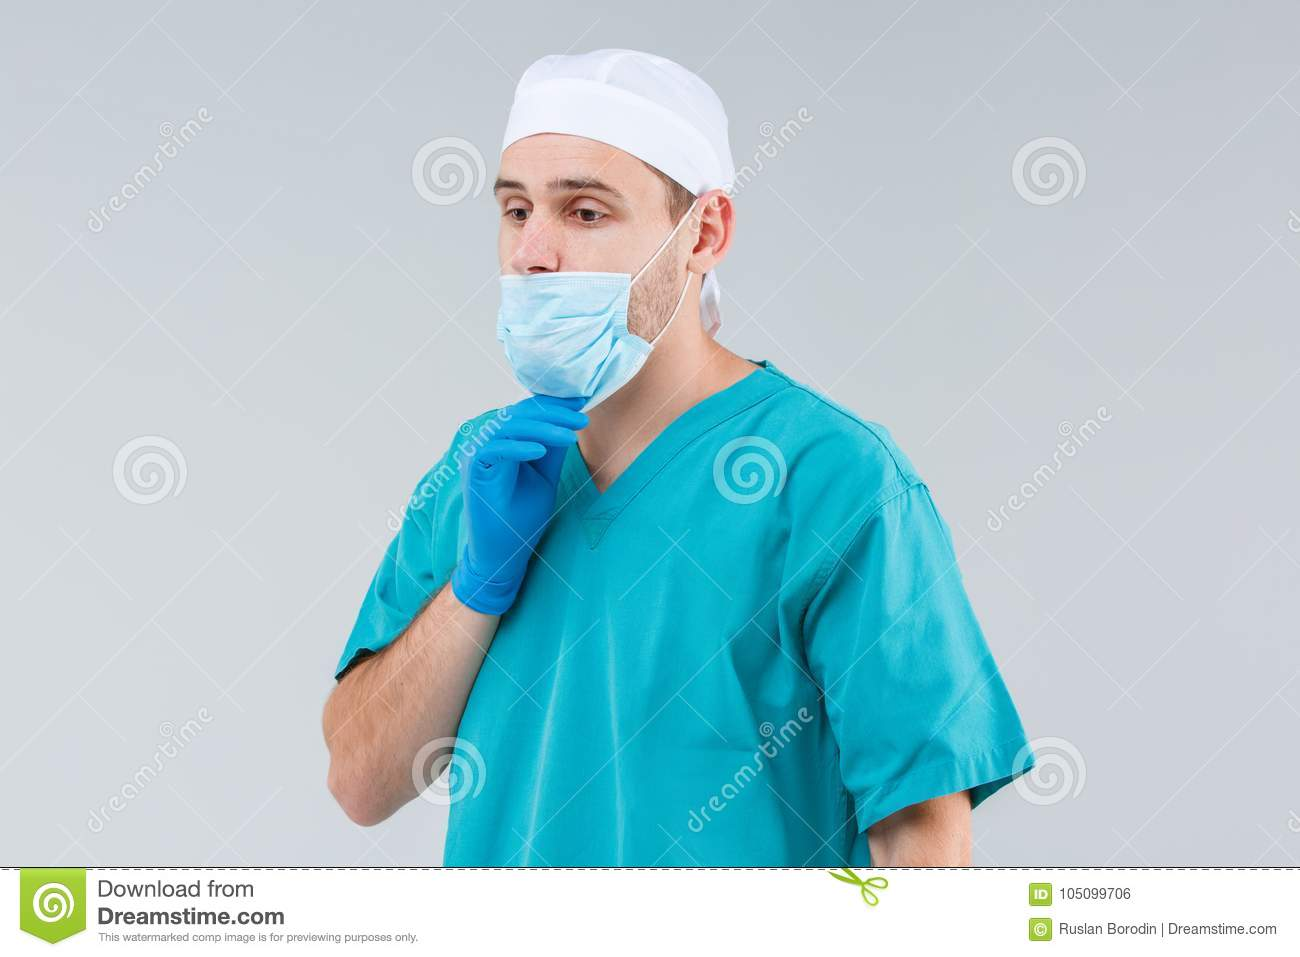mask: (482, 269, 654, 413)
